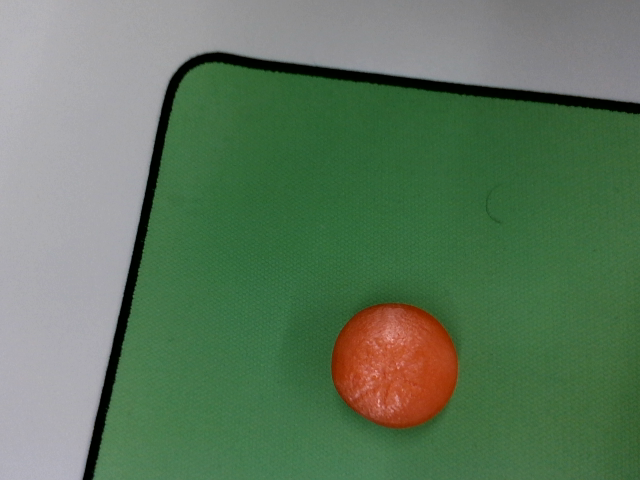orange: (310, 281, 479, 448)
